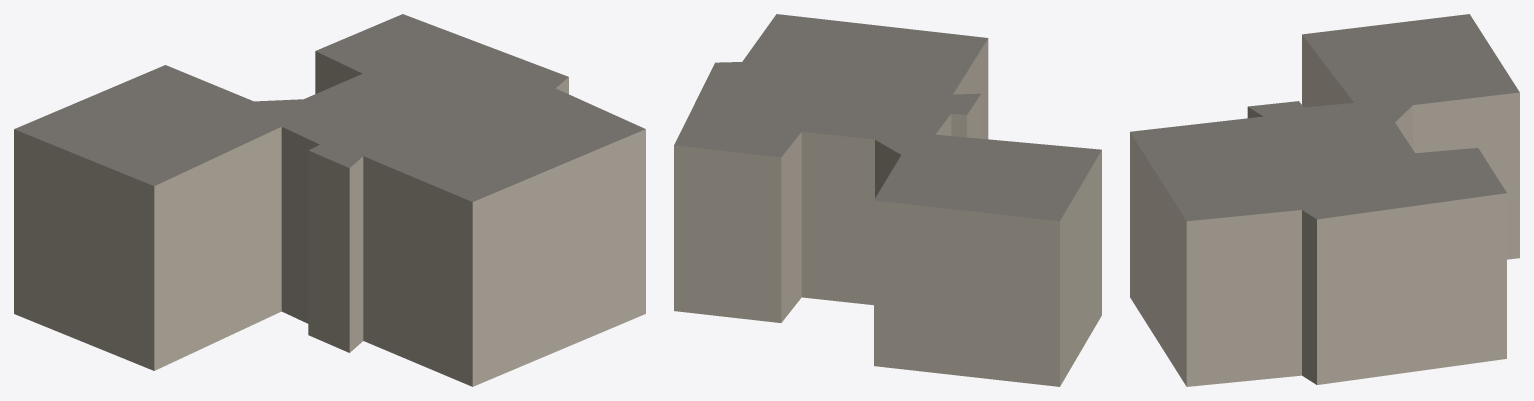
The picture shows the model from 3 angles, left to right: view 1: azimuth 30°, elevation 25°; view 2: azimuth 150°, elevation 25°; view 3: azimuth 270°, elevation 25°; orthographic projection. The views are drawn at different scales.
Visible parts, largest first — view 1: HP-w1512497751; view 2: HP-w1512497751; view 3: HP-w1512497751.
Part boxes in pixels (bbox=[...]): HP-w1512497751: bbox=[14, 14, 645, 386]; HP-w1512497751: bbox=[674, 14, 1101, 386]; HP-w1512497751: bbox=[1130, 14, 1519, 386].
Bounding box in the file's own units: 48.3 × 18 × 38.38.
